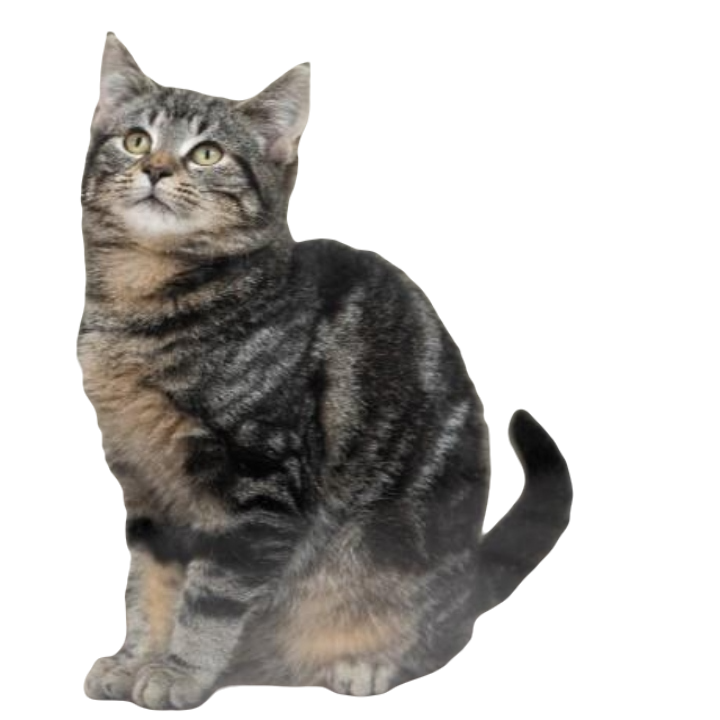Cat: (71, 14, 581, 713)
